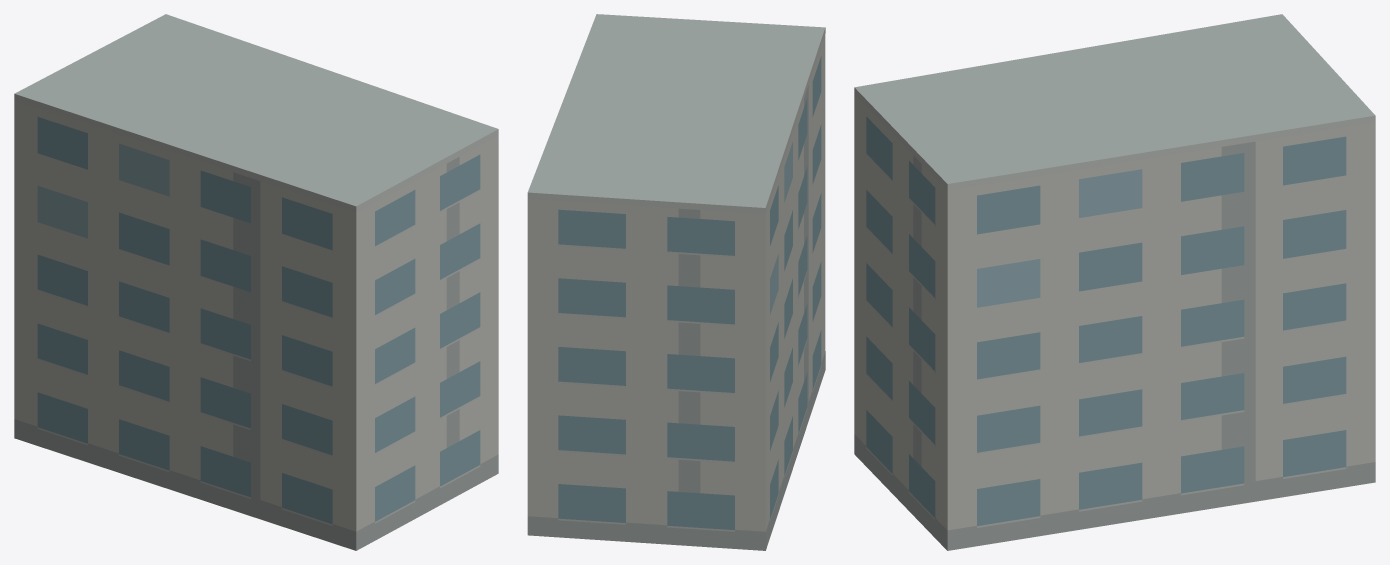
Rendered from survey-upis-32885958.glb.
3 renders of one model, left to right at view 1: azimuth 30°, elevation 25°; view 2: azimuth 150°, elevation 25°; view 3: azimuth 270°, elevation 25°, orthographic. The views are drawn at different scales.
Parts seen in each view (by area): view 1: survey-upis-32885958.tmp; view 2: survey-upis-32885958.tmp; view 3: survey-upis-32885958.tmp.
Boxes of the visible parts, bbox=[...] form: survey-upis-32885958.tmp: bbox=[14, 14, 498, 550]; survey-upis-32885958.tmp: bbox=[527, 14, 825, 550]; survey-upis-32885958.tmp: bbox=[854, 14, 1375, 550].
Size of the model in its own units: 13.18 by 13.25 by 17.07.
